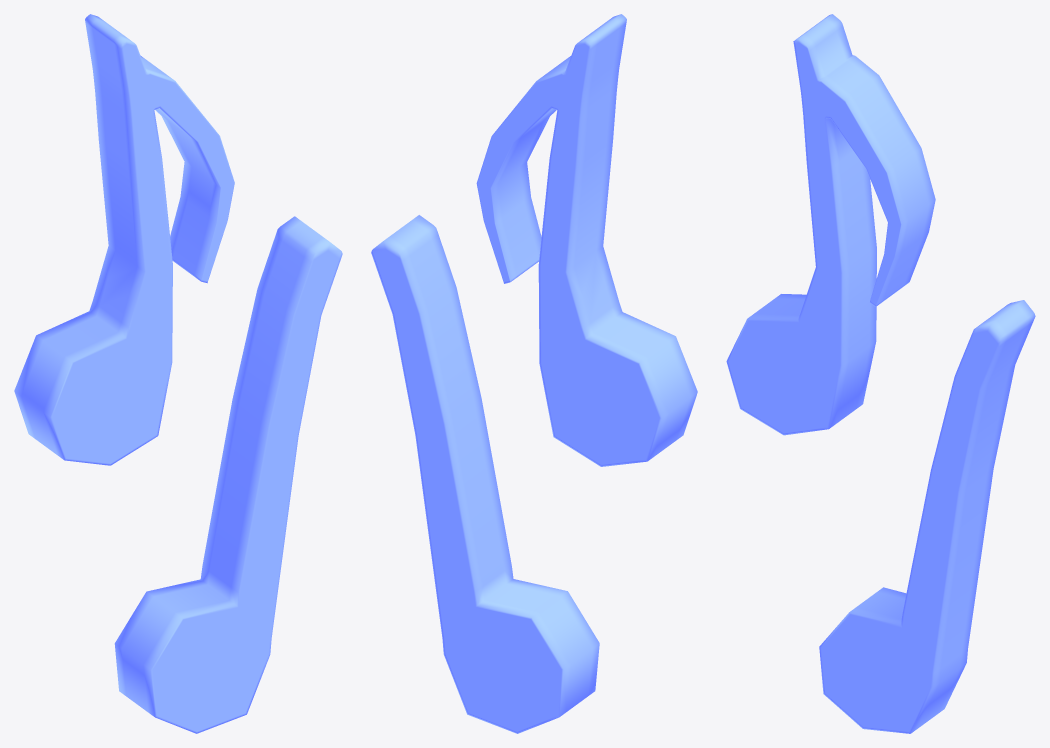
Rendered from Notes_3.glb.
3 renders of one model, left to right at view 1: azimuth 30°, elevation 25°; view 2: azimuth 150°, elevation 25°; view 3: azimuth 330°, elevation 25°, orthographic. The views are drawn at different scales.
Parts seen in each view (by area): view 1: Keys_Obj.003; view 2: Keys_Obj.003; view 3: Keys_Obj.003.
Boxes of the visible parts, x1,y1,x2,y2 form: Keys_Obj.003: (14,14,342,733); Keys_Obj.003: (371,14,697,733); Keys_Obj.003: (726,14,1035,733).
Size of what is drawn, in the model's own units: 1.05 by 2.45 by 0.2328.
